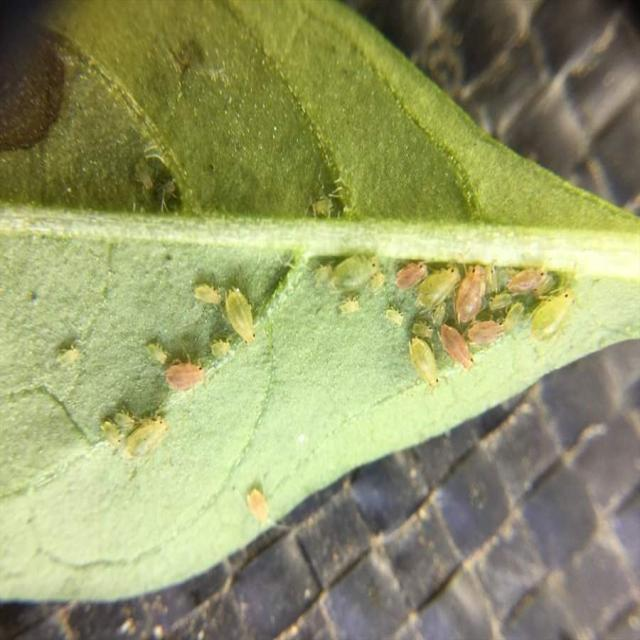Aphid: (527, 283, 579, 351), (325, 253, 387, 309), (219, 284, 268, 348), (438, 321, 485, 372), (115, 414, 165, 461), (163, 356, 210, 405), (456, 259, 491, 324), (506, 258, 553, 300), (407, 340, 442, 395), (468, 311, 509, 343), (392, 257, 430, 290), (190, 278, 221, 315), (137, 336, 166, 370), (56, 345, 81, 376), (99, 418, 116, 446)
